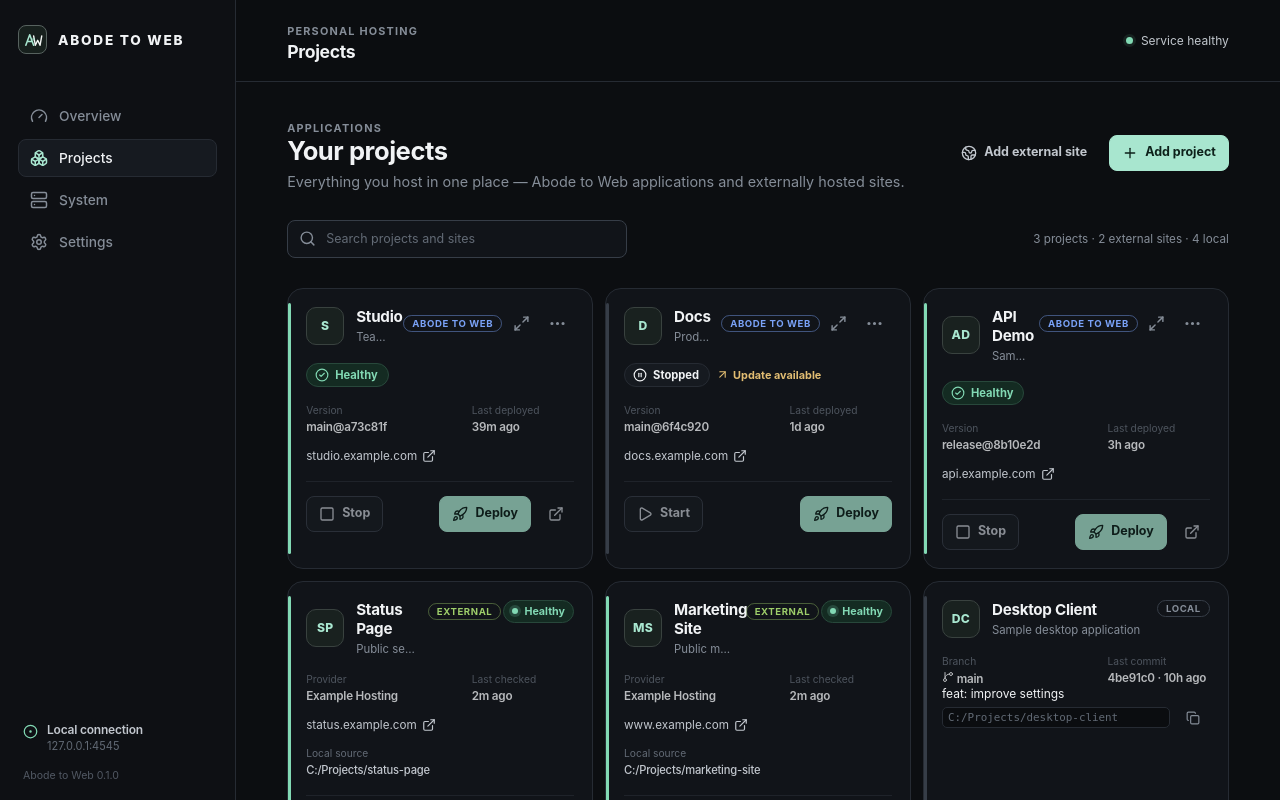
Scenario: project actions and operation progress › submits only the predefined start action for a stopped project
The width and height of the screenshot is (1280, 800).
Click the button "Start" at (664, 514), box [624,496,703,532]
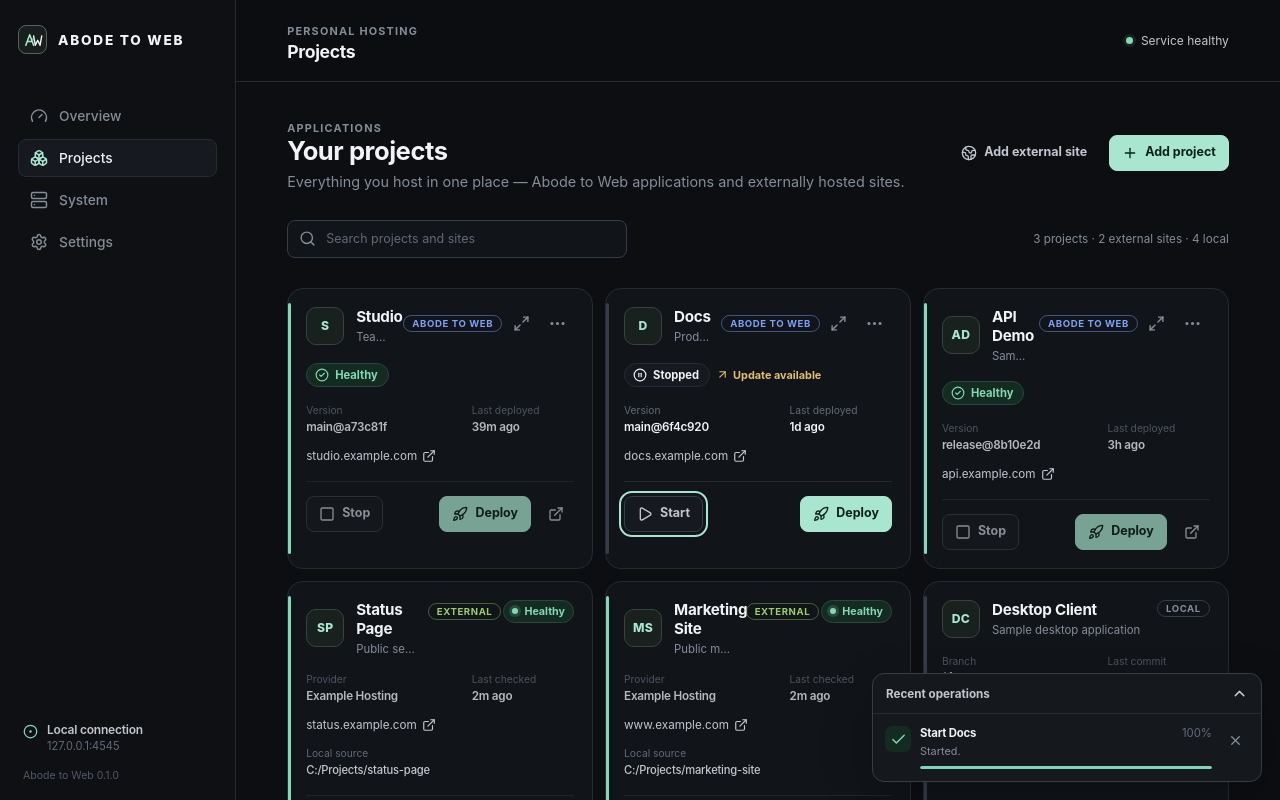
Expected: the text "Started." is shown, [920,744,960,758]
